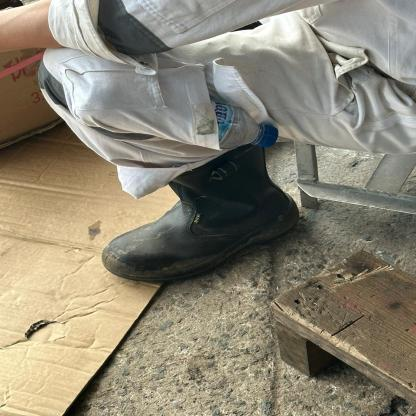bota: (84, 144, 312, 285)
